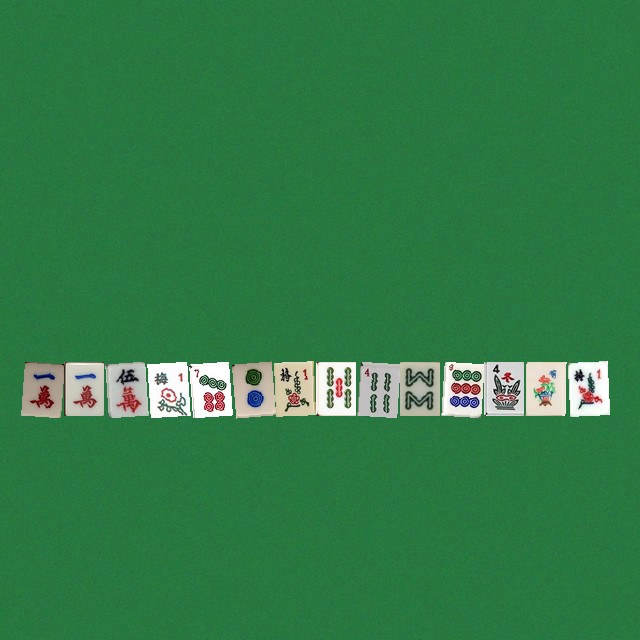tile: (21, 361, 61, 415), (63, 361, 103, 415), (105, 361, 145, 415), (147, 361, 187, 415), (189, 361, 229, 415), (231, 361, 271, 415), (273, 361, 313, 415), (315, 361, 355, 415), (357, 361, 397, 415), (399, 361, 439, 415), (441, 361, 481, 415), (483, 361, 523, 415), (525, 361, 565, 415), (567, 361, 607, 415)
